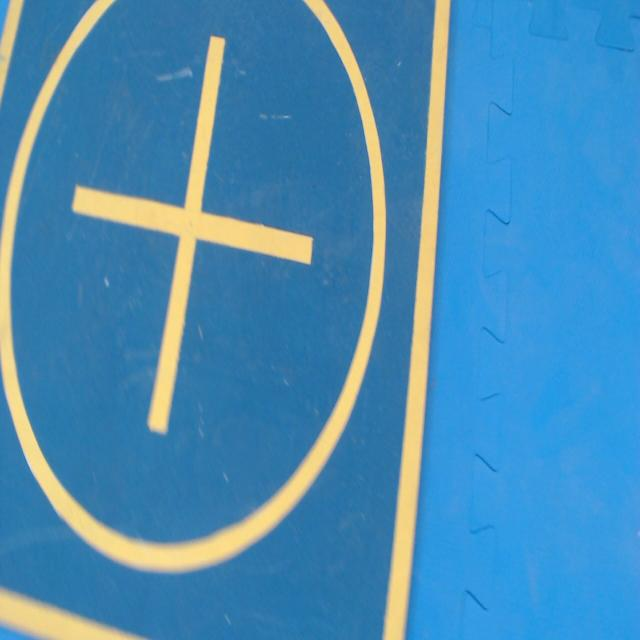base_pouso: (1, 0, 451, 639)
